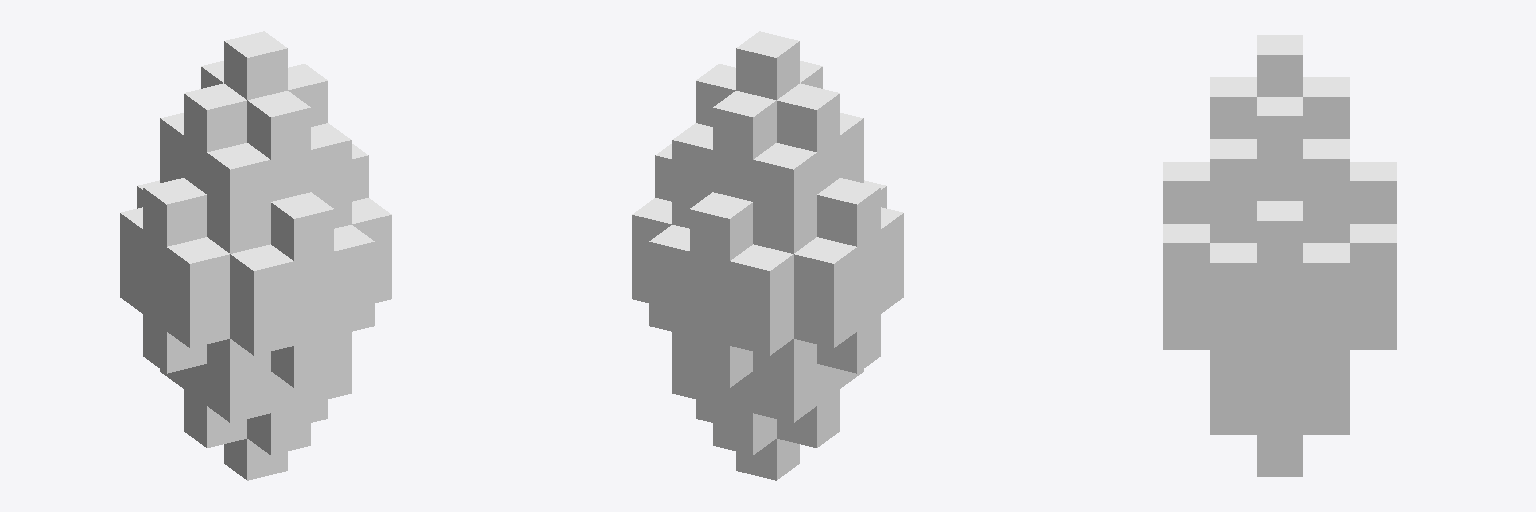
Rendered from cristais-9.obj.
3 views of the same model, side by side, from view 1: azimuth 30°, elevation 25°; view 2: azimuth 150°, elevation 25°; view 3: azimuth 270°, elevation 25° (orthographic).
Parts seen in each view (by area): view 1: object 1; view 2: object 1; view 3: object 1.
Boxes of the visible parts, box(x1,y1,x2,y2) form: object 1: box(120, 31, 391, 480); object 1: box(632, 31, 903, 480); object 1: box(1163, 35, 1396, 476).
Bounding box in the file's own units: 0.5 × 1 × 0.5.